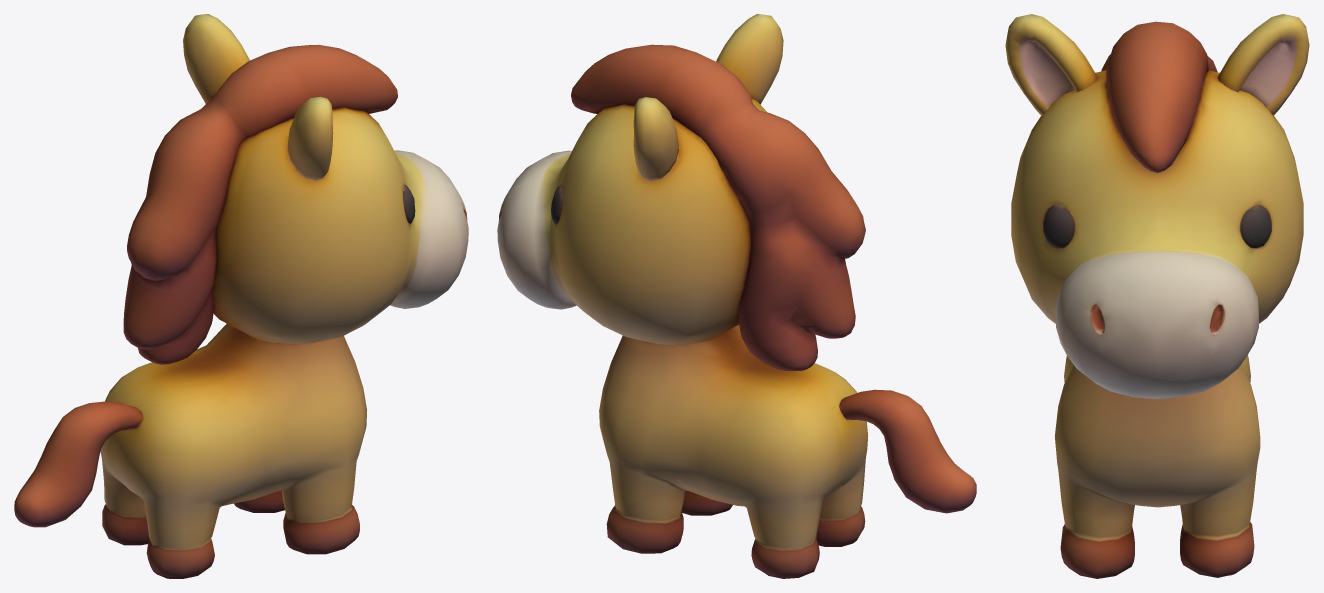
Rendered from horse.glb.
3 views of the same model, side by side, from view 1: azimuth 30°, elevation 25°; view 2: azimuth 150°, elevation 25°; view 3: azimuth 270°, elevation 25° (orthographic). The views are drawn at different scales.
Parts seen in each view (by area): view 1: tripo_node_bfa2d92e-bb76-4464-b2a7-c3b691f7af87; view 2: tripo_node_bfa2d92e-bb76-4464-b2a7-c3b691f7af87; view 3: tripo_node_bfa2d92e-bb76-4464-b2a7-c3b691f7af87.
Boxes of the visible parts, left/top/right/bottom form: tripo_node_bfa2d92e-bb76-4464-b2a7-c3b691f7af87: left=14, top=14, right=468, bottom=578; tripo_node_bfa2d92e-bb76-4464-b2a7-c3b691f7af87: left=497, top=14, right=976, bottom=578; tripo_node_bfa2d92e-bb76-4464-b2a7-c3b691f7af87: left=1005, top=14, right=1309, bottom=578.
Size of the model in its own units: 0.9902 by 0.998 by 0.5176.
1 material, 1 textured.
